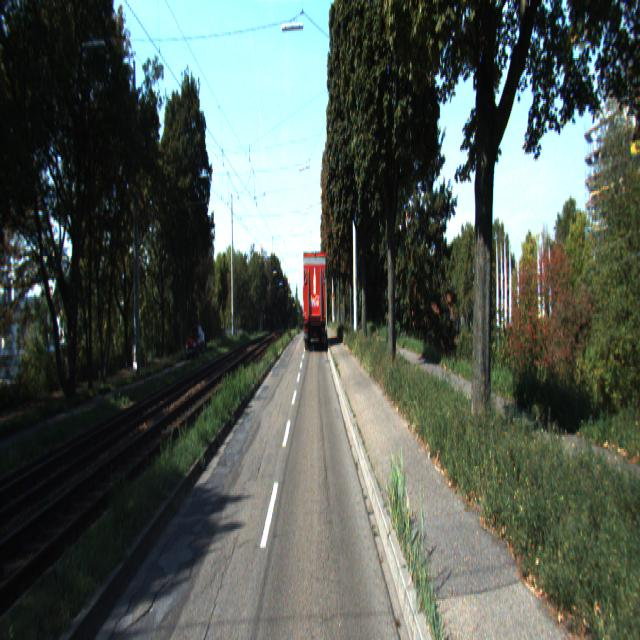Car: (301, 248, 327, 352), (184, 325, 206, 363)
